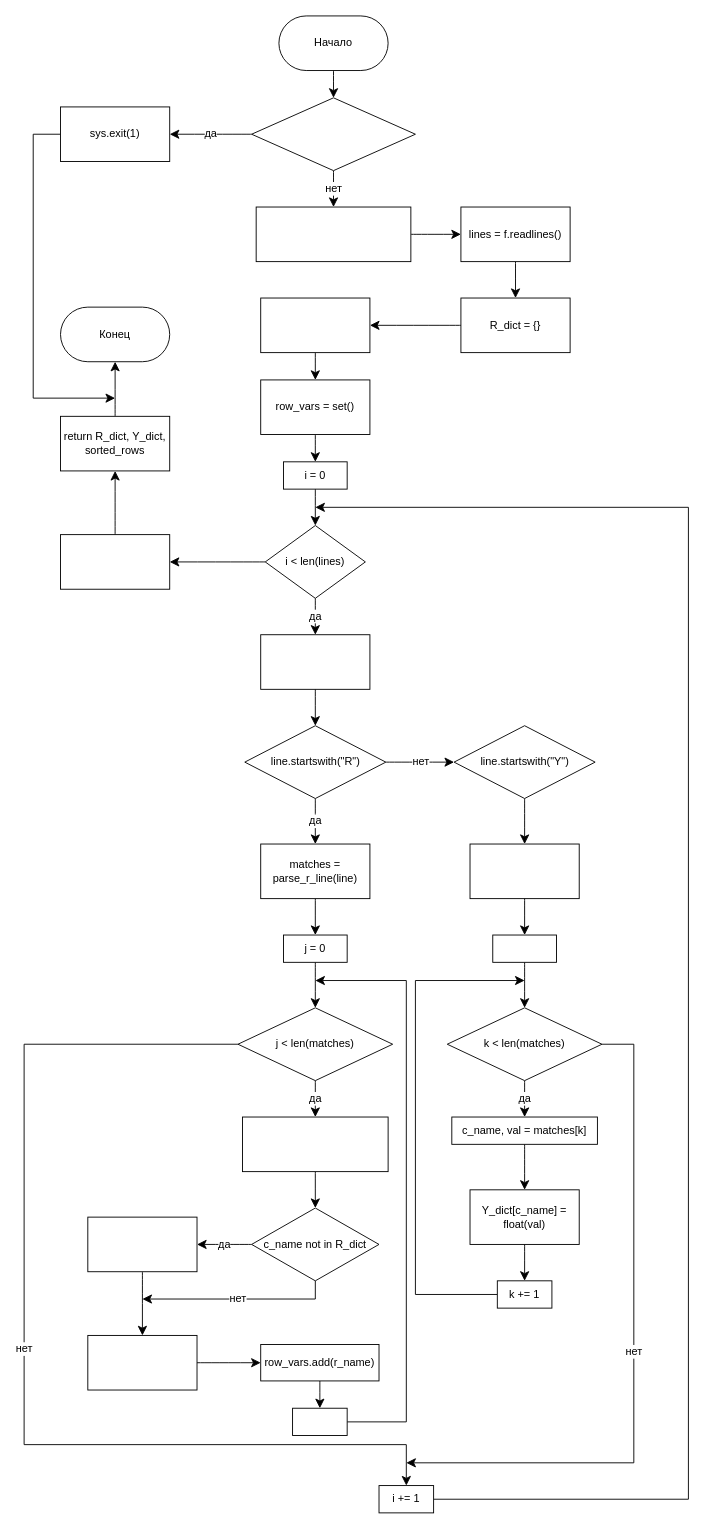
Image size: 713x1529. Some labels were removed from this diagram. Here are the shapes that lost their labels. From the top down, the box of each, then its label:
(251, 97, 415, 171): not os.path.exists(filename)
(255, 206, 411, 262): with open(filename, 'r', encoding='utf-8') as f:
(260, 297, 370, 353): Y_dict = {}
(60, 534, 170, 589): sorted_rows = sorted(list(row_vars))
(260, 634, 370, 689): line = lines[i].strip()
(469, 843, 579, 899): matches = parse_y_line(line)
(492, 934, 556, 962): k = 0
(242, 1116, 388, 1172): r_name, c_name, val = matches[j]
(87, 1216, 197, 1272): R_dict[c_name] = {}
(87, 1335, 197, 1390): R_dict[c_name][r_name] = float(val)
(292, 1407, 347, 1436): j += 1
